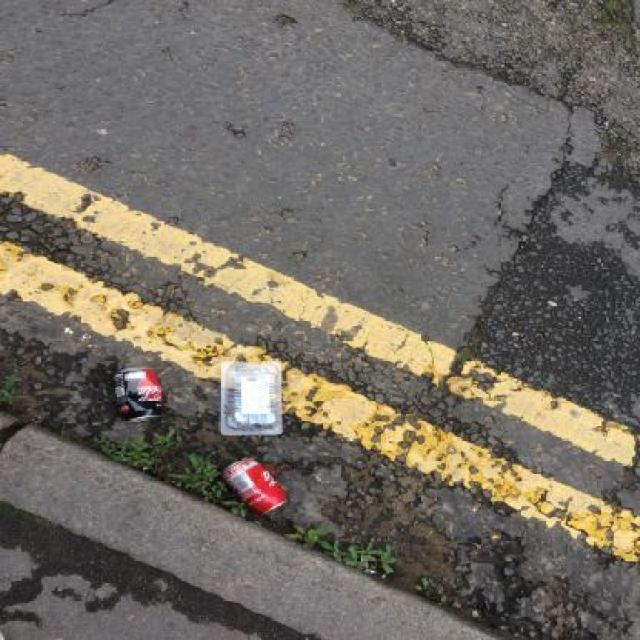metal: (221, 456, 288, 516), (113, 366, 162, 422)
plastic: (219, 361, 283, 436)
